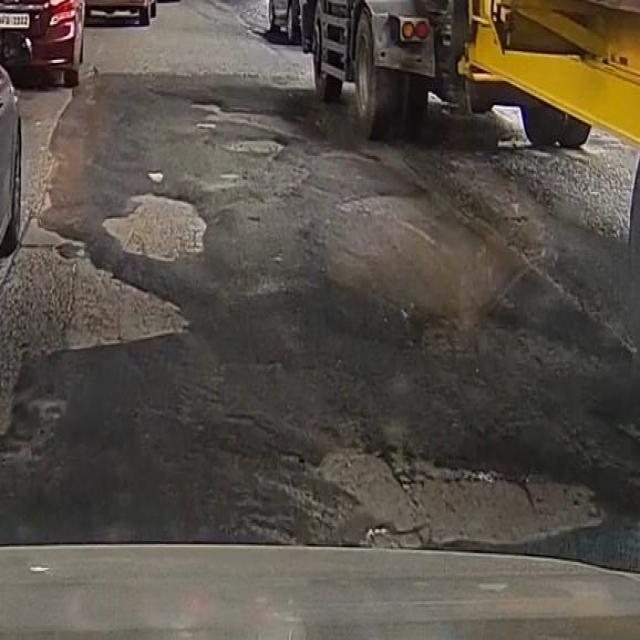Pothole: (310, 432, 613, 550)
